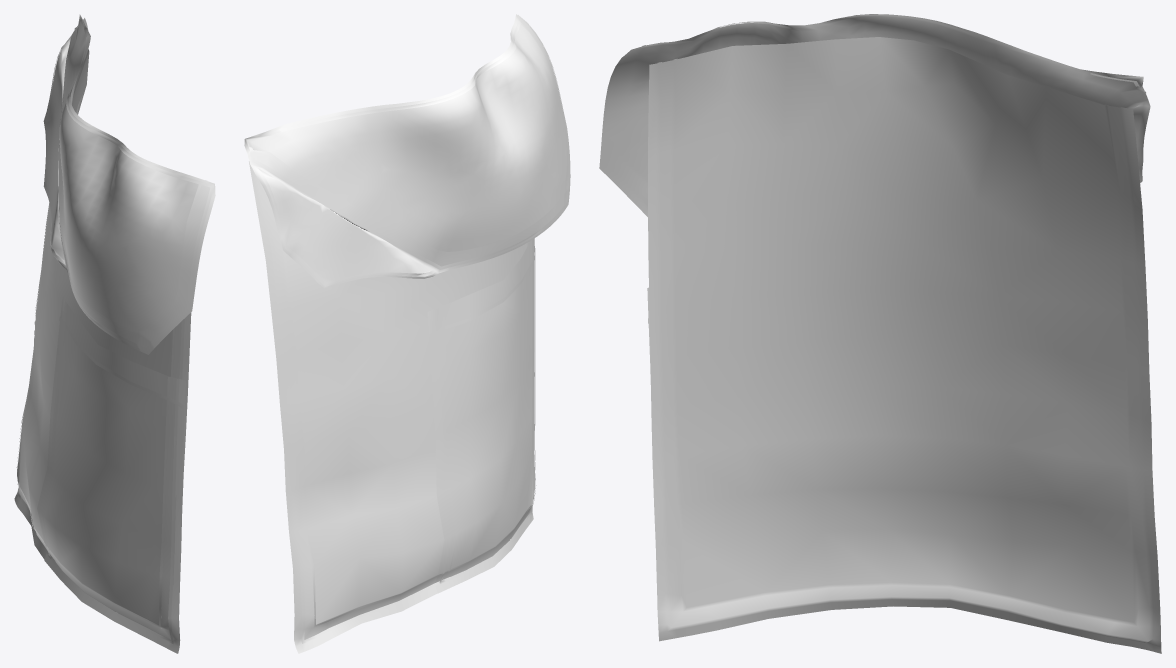
File: Pants_Pocket_LEFT_V1.glb
3 renders of one model, left to right at view 1: azimuth 30°, elevation 25°; view 2: azimuth 150°, elevation 25°; view 3: azimuth 270°, elevation 25°, orthographic. The views are drawn at different scales.
Visible parts, largest first — view 1: Pants_Pocket_LEFT_V1.001, Pants_Main6.001; view 2: Pants_Pocket_LEFT_V1.001, Pants_Main6.001; view 3: Pants_Pocket_LEFT_V1.001.
Part boxes in pixels (x1,y1,x2,y2): Pants_Pocket_LEFT_V1.001: [14, 14, 215, 653]; Pants_Main6.001: [16, 18, 213, 643]; Pants_Pocket_LEFT_V1.001: [244, 14, 569, 653]; Pants_Main6.001: [248, 15, 570, 643]; Pants_Pocket_LEFT_V1.001: [599, 14, 1161, 653].
Size of the model in its own units: 0.076 by 0.2602 by 0.2128.
2 materials, 2 textured.
